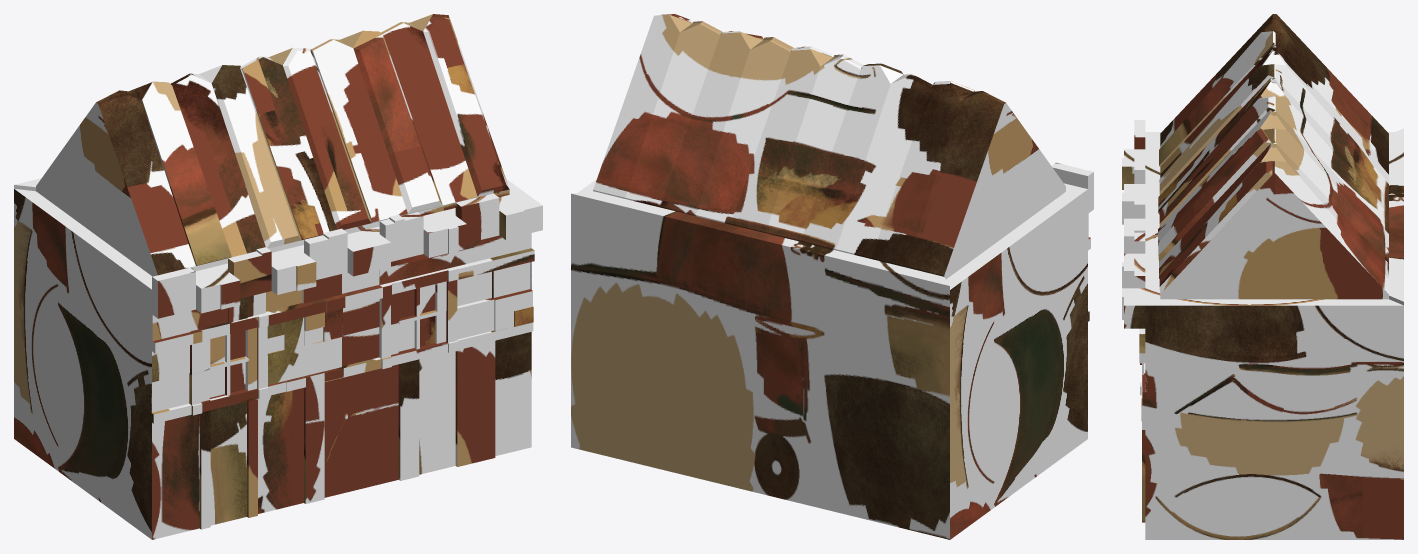
File: Block_house_.obj
The picture shows the model from 3 angles, left to right: view 1: azimuth 30°, elevation 25°; view 2: azimuth 150°, elevation 25°; view 3: azimuth 270°, elevation 25°; orthographic projection. The views are drawn at different scales.
Parts seen in each view (by area): view 1: house_block; view 2: house_block; view 3: house_block.
Part boxes in pixels (x1,y1,x2,y2): house_block: (14, 14, 542, 539); house_block: (571, 14, 1093, 539); house_block: (1122, 14, 1403, 539).
Bounding box in the file's own units: 26.66 × 26.29 × 18.31.
